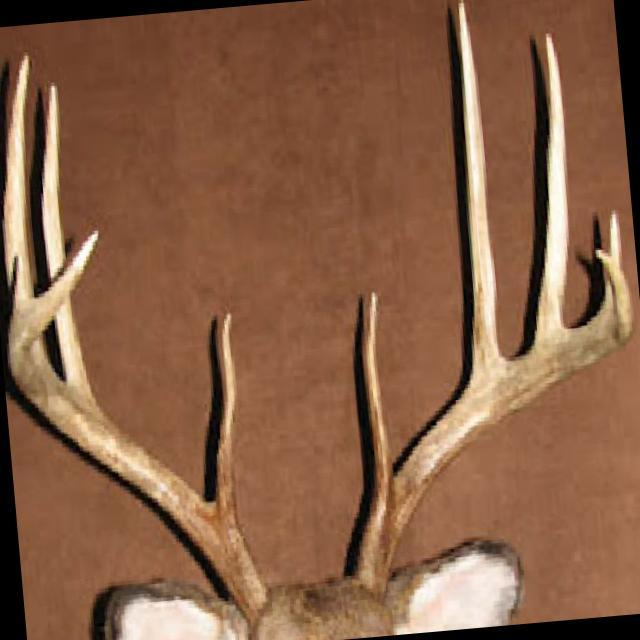E1: (10, 253, 29, 318)
L-F: (342, 247, 635, 604)
L-G1: (362, 288, 393, 489)
L-G2: (458, 0, 501, 373)
L-G3: (535, 35, 569, 337)
R-F: (7, 228, 270, 625)
R-G1: (215, 308, 238, 527)
